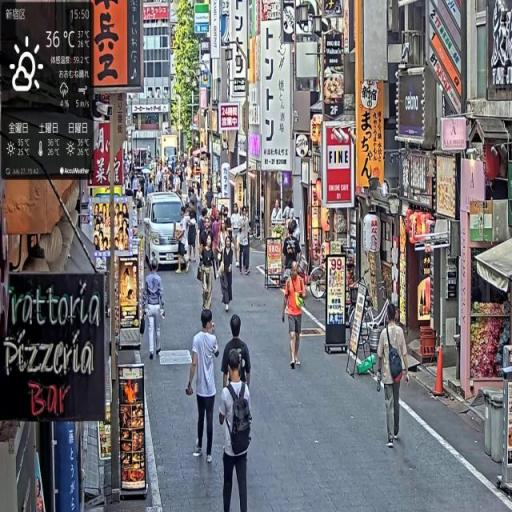person: (220, 347, 255, 512), (376, 304, 412, 453), (188, 308, 221, 465), (283, 258, 308, 371), (145, 256, 168, 363), (223, 312, 253, 391), (220, 228, 236, 315), (238, 208, 252, 277)
